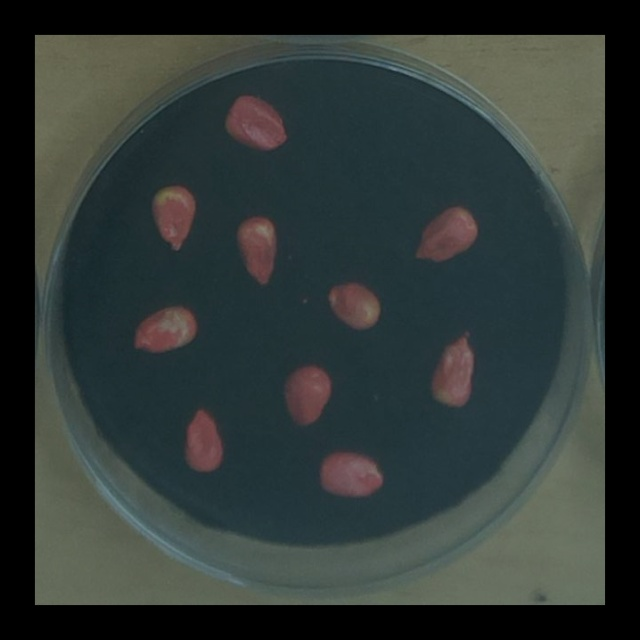Zea mays: (216, 87, 292, 157), (409, 201, 483, 268), (423, 327, 479, 414), (125, 299, 203, 360), (312, 445, 389, 505), (276, 360, 337, 435), (144, 179, 202, 257), (230, 211, 283, 291), (320, 275, 387, 336), (177, 402, 230, 478)
